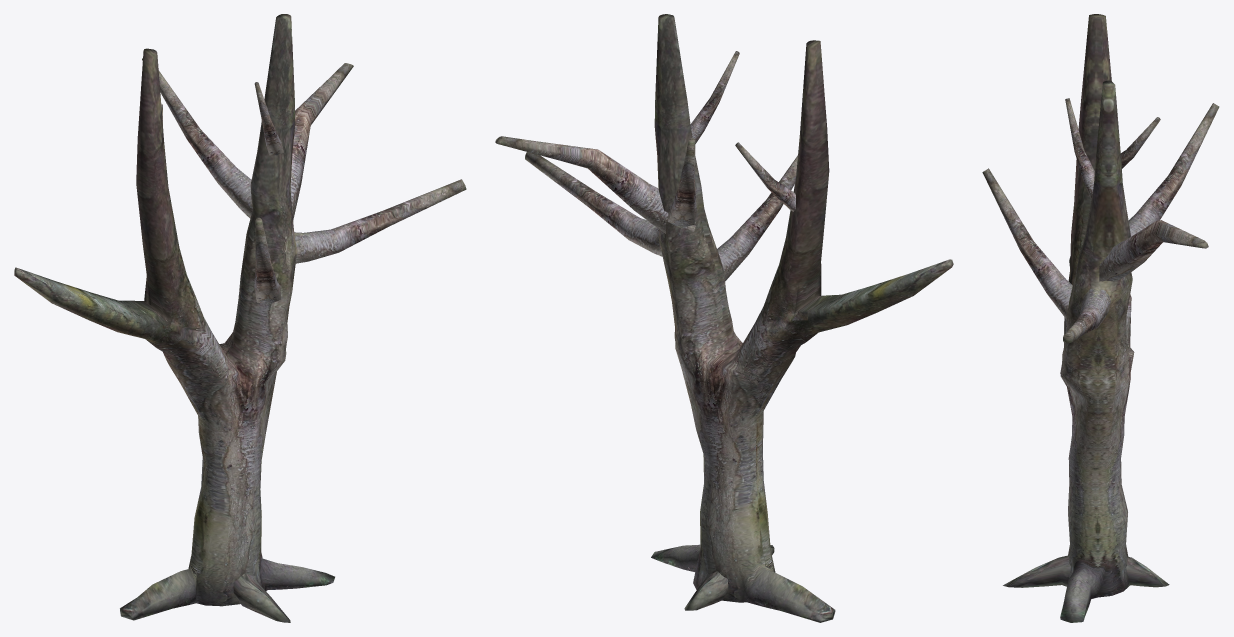
The model's file is dtree1.obj.
3 views of the same model, side by side, from view 1: azimuth 30°, elevation 25°; view 2: azimuth 150°, elevation 25°; view 3: azimuth 270°, elevation 25° (orthographic). The views are drawn at different scales.
Visible parts, largest first — view 1: dtree1; view 2: dtree1; view 3: dtree1.
Boxes of the visible parts, x1,y1,x2,y2 form: dtree1: [14, 14, 466, 622]; dtree1: [495, 14, 953, 622]; dtree1: [982, 14, 1219, 622].
Bounding box in the file's own units: 239 × 294 × 118.
1 material, 1 textured.
